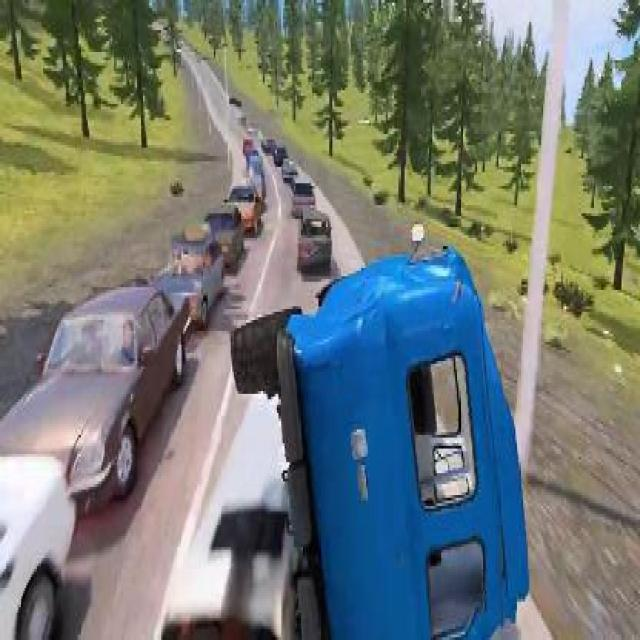accident: (229, 222, 534, 637)
